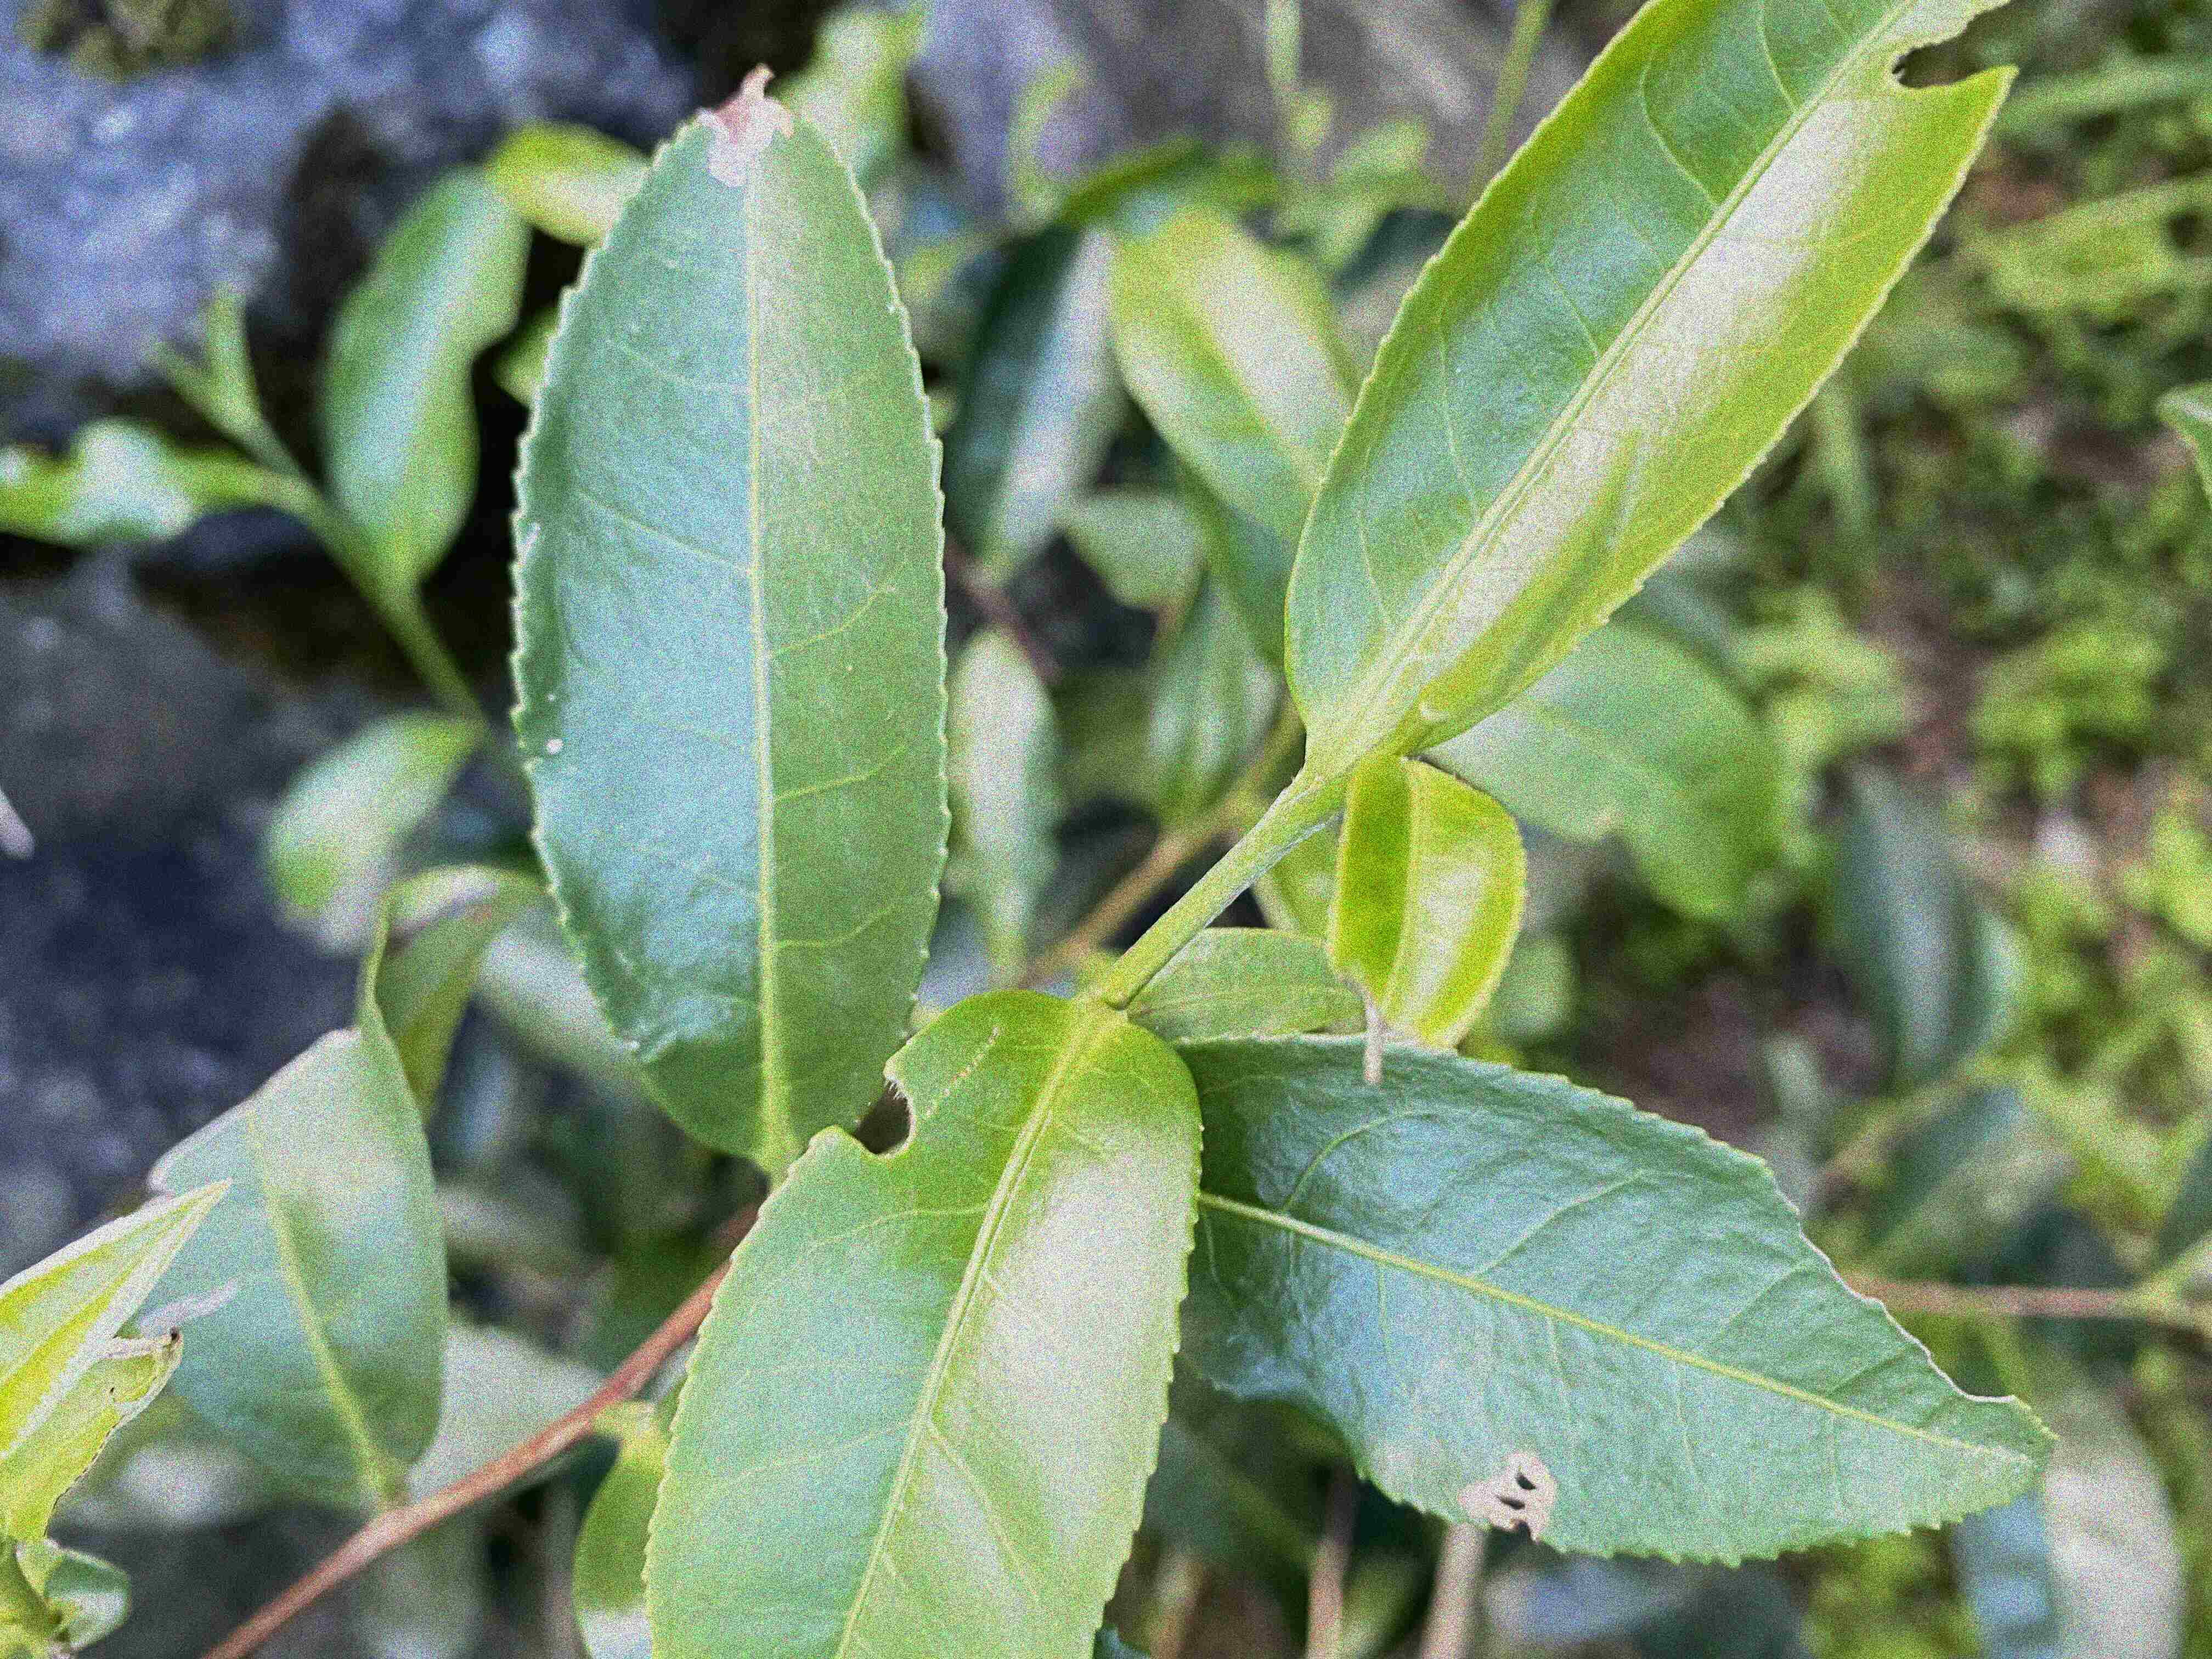chihuo_low: (1284, 0, 2033, 755), (639, 988, 1207, 1657)
tanju_high: (500, 61, 956, 1171)
